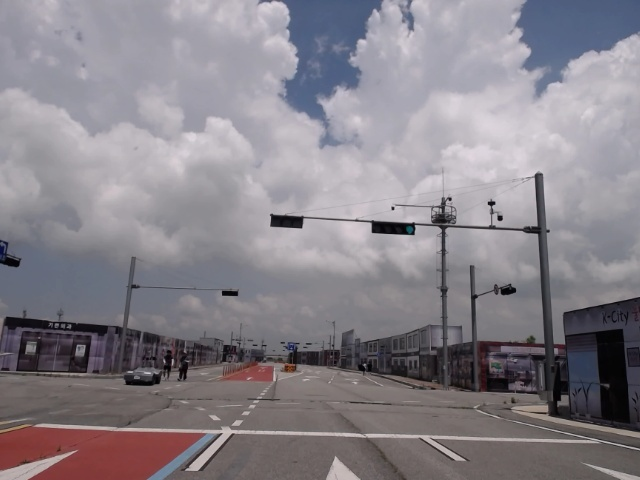straight_green_4: (373, 223, 414, 236)
